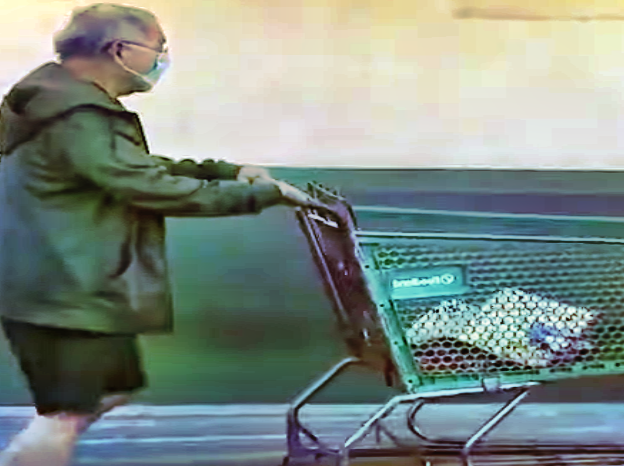mask_weared_incorrect: (97, 3, 176, 95)
